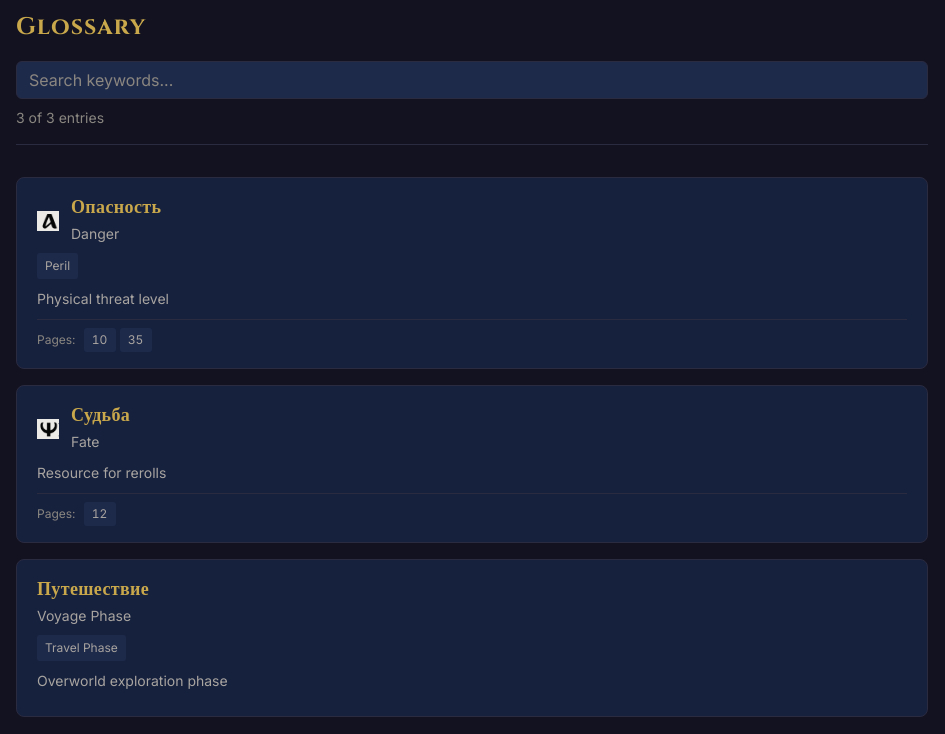
Test: GlossaryPage › filters by alias text
The image size is (945, 734).
Expected: the heading "Путешествие" is shown, [37,576,149,603]
Step 1. Type "Travel" into the search field with placeholder "Search keywords..." → (472, 80), box [16,61,928,99]
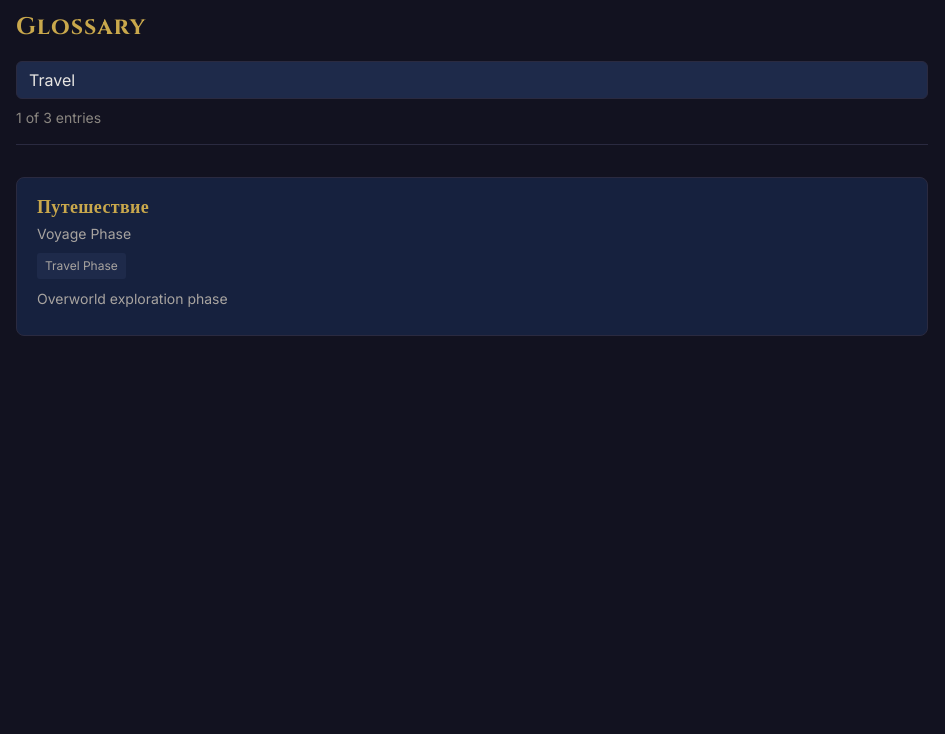
Expected: the heading "Путешествие" is shown, [37,194,149,221]
Expected: the text "1 of 3 entries" is shown, [16,109,101,126]
